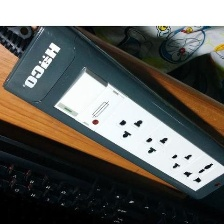three_eye_plug: (0, 23, 224, 201)
